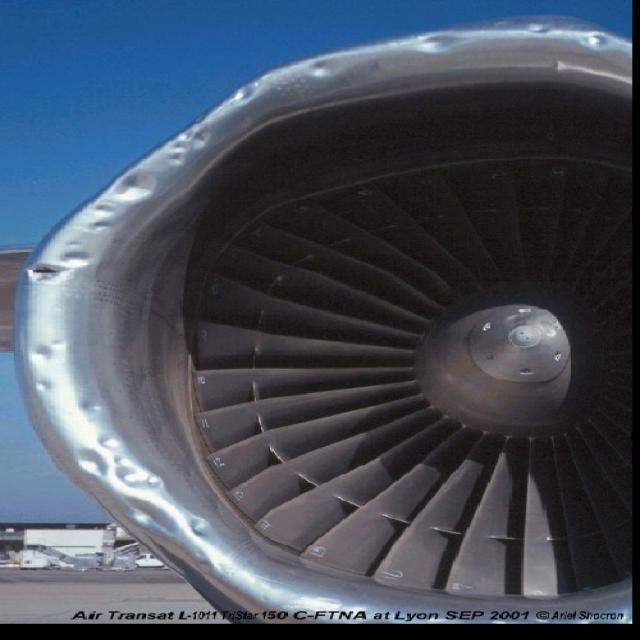dent: (58, 111, 241, 269), (46, 431, 246, 567)
